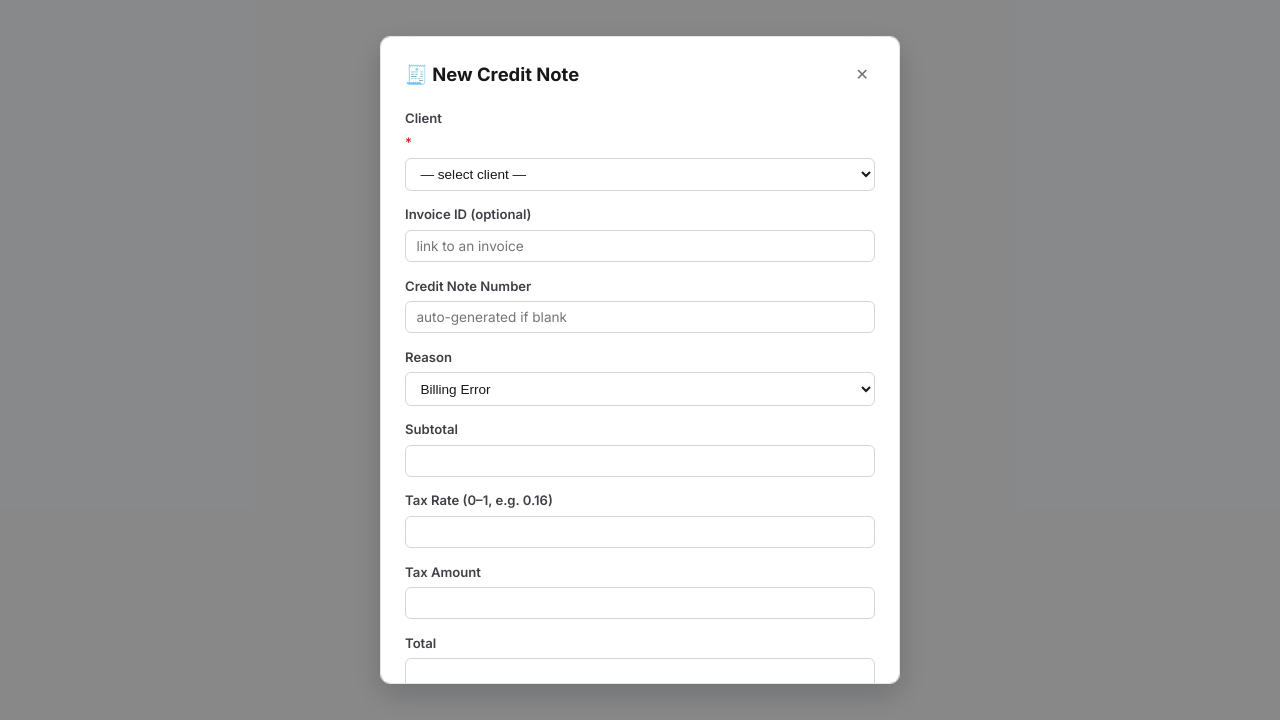
Test case: CreditNoteList page › surfaces the backend totals-consistency 422 message in the create modal
Select "María García" in the dropdown labelled "Client *": [640, 174] box [405,158,875,191]
(page scrolled)
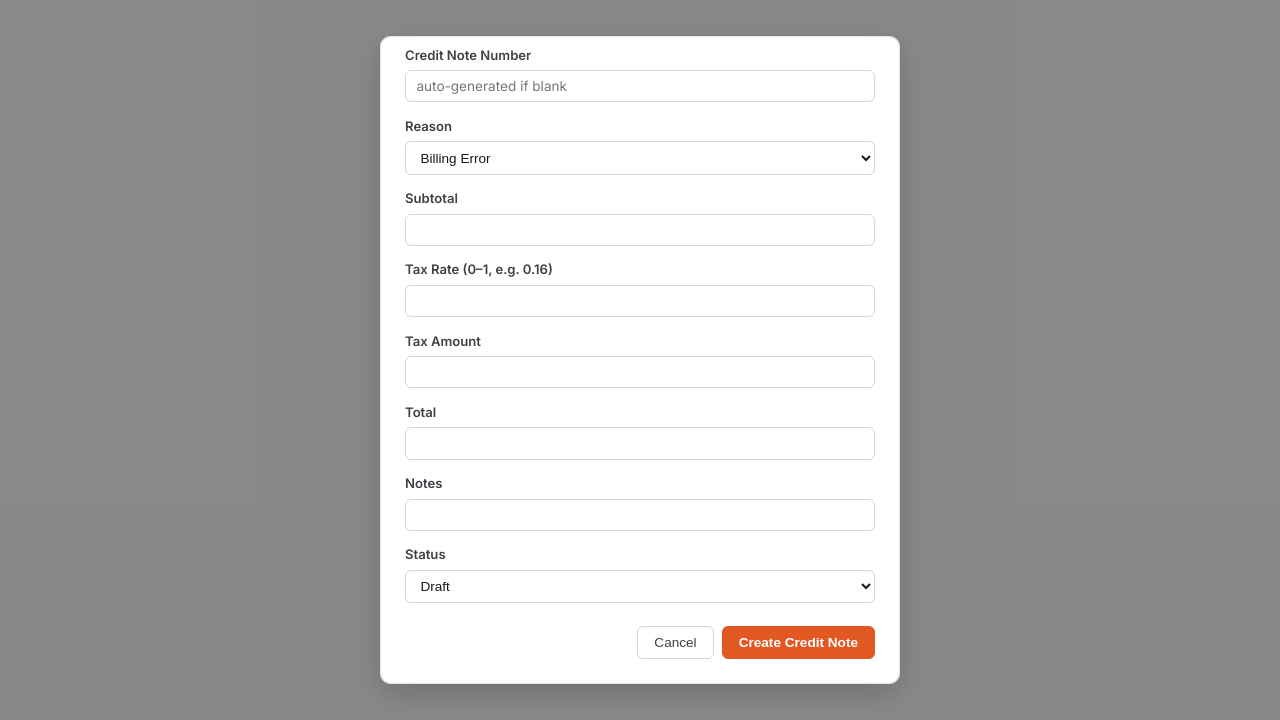
Click the button "Create Credit Note": [798, 642] box [722,626,875,659]
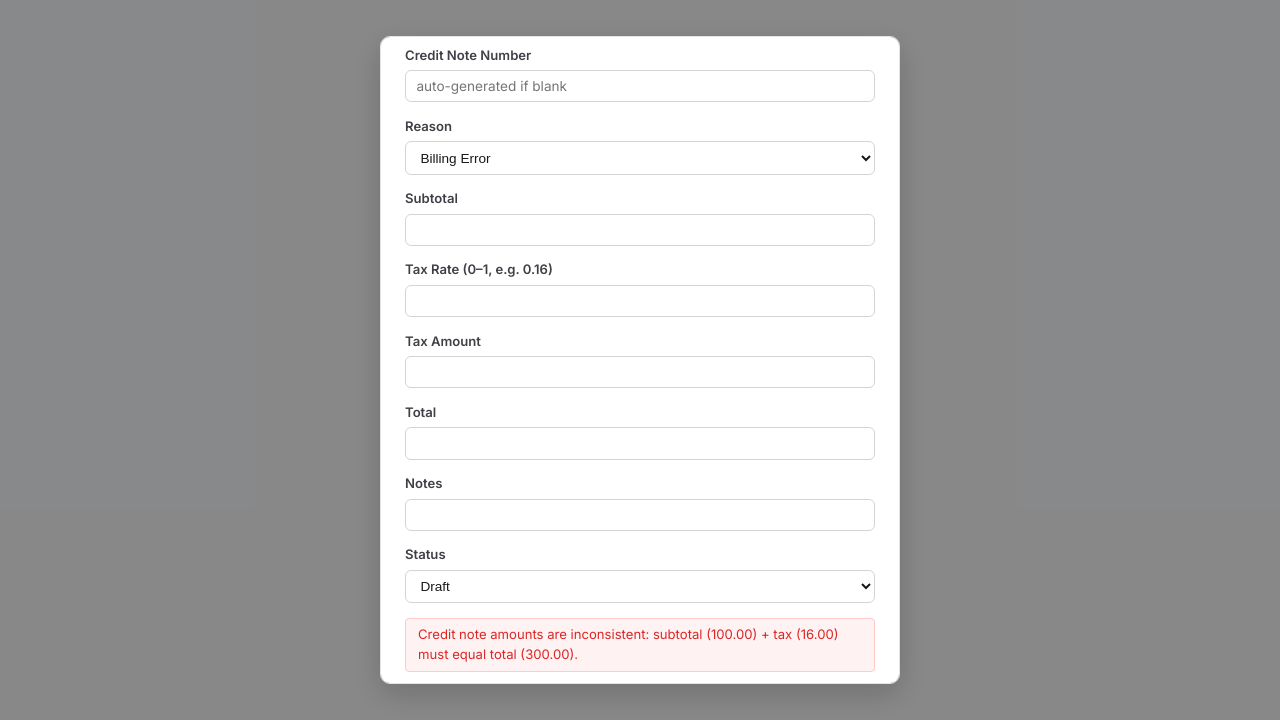
Now the text "must equal total (300.00)" is shown, box [418,626,838,662]
